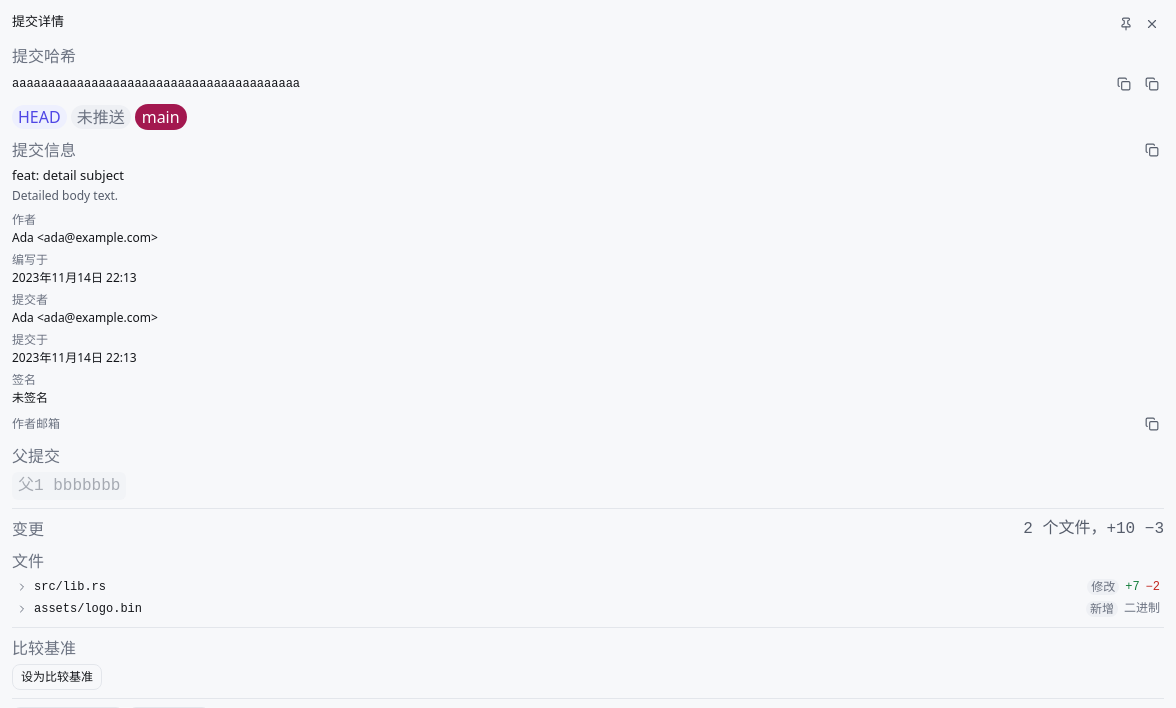
Test case: CommitDetailPanel 渲染 › 点击文件行展开行级 diff（between 源），再点收起
Click the button "src/lib.rs 修改 +7 −2" at (70, 587), box [12,577,1164,597]
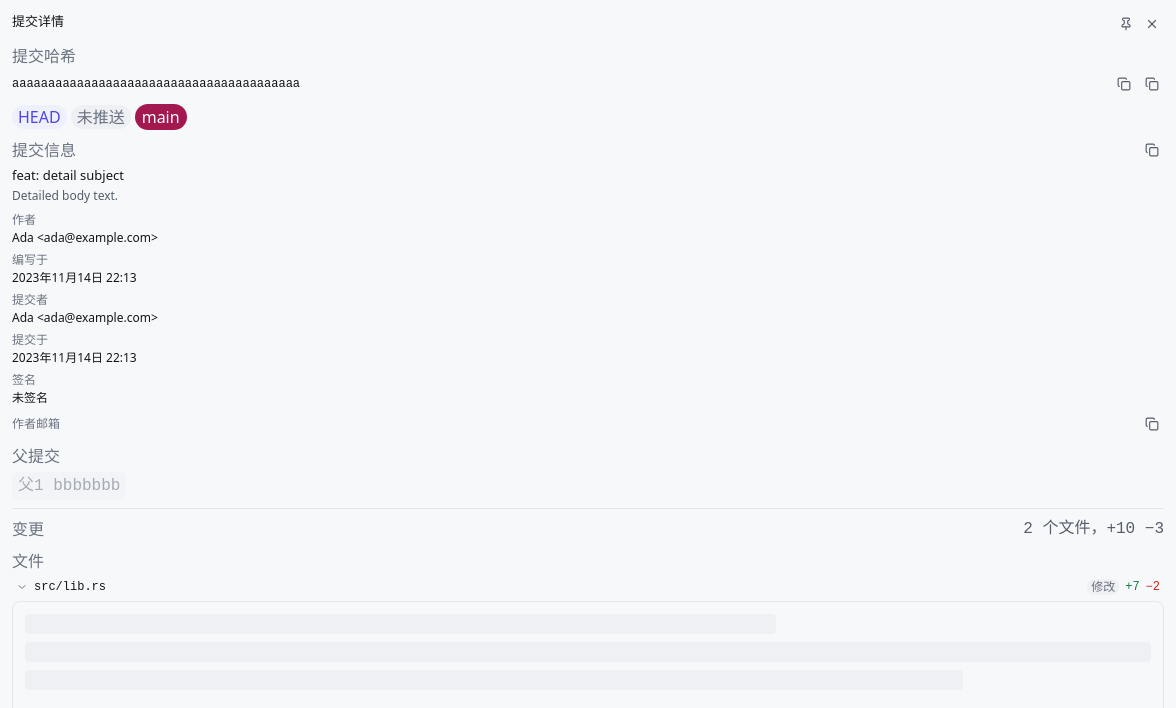
Expected: the button "src/lib.rs 修改 +7 −2" is expanded
Click the button "src/lib.rs 修改 +7 −2" at (70, 587), box [12,577,1164,597]
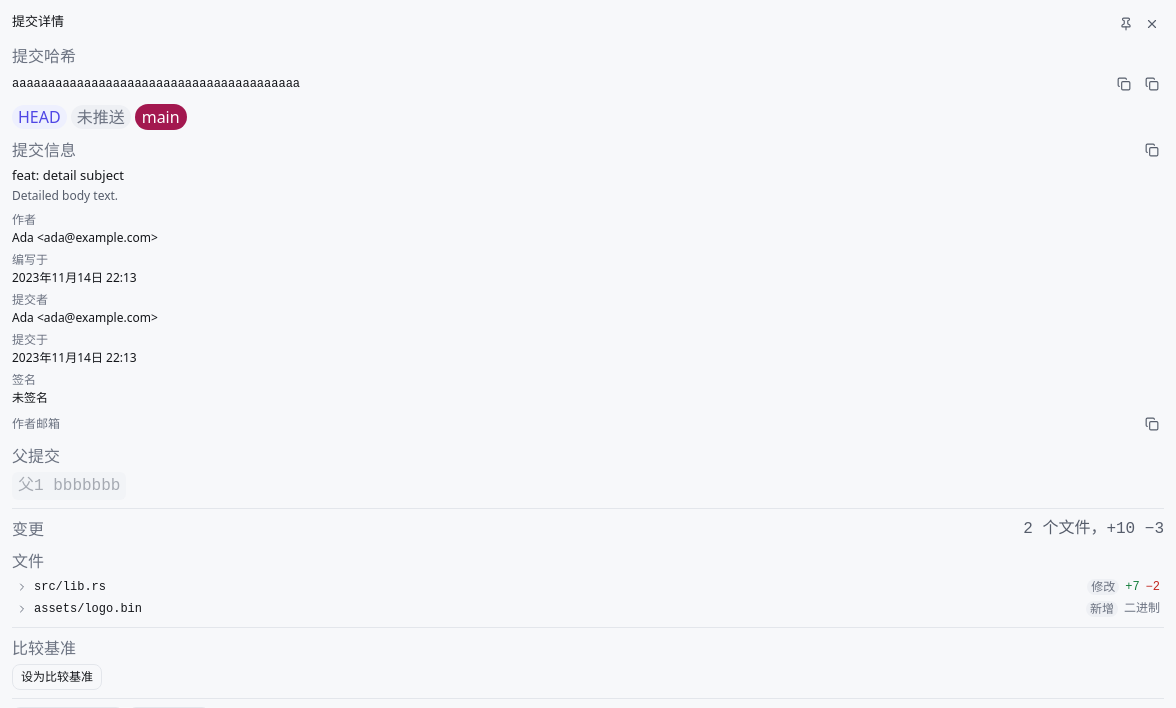
Expected: the button "src/lib.rs 修改 +7 −2" is collapsed, [12,577,1164,597]
